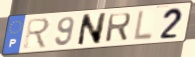2: (156, 6, 186, 42)
9: (53, 15, 76, 47)
L: (131, 9, 155, 43)
N: (76, 12, 108, 48)
R: (103, 11, 132, 44), (22, 17, 51, 50)
